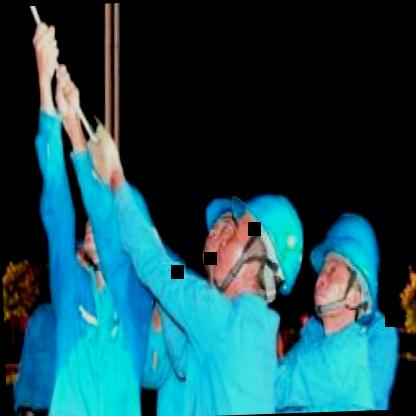helmet: (216, 193, 303, 310), (312, 209, 386, 338), (198, 196, 254, 285)
